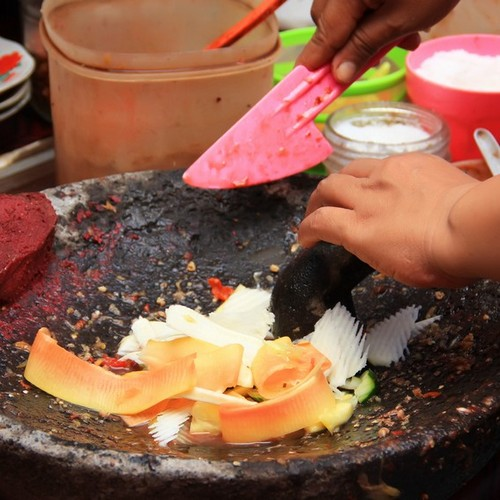rujak buleleng: (55, 292, 296, 443)
